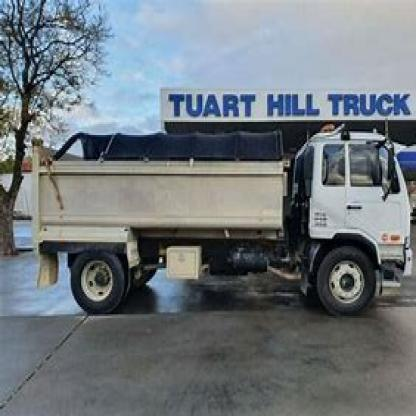dump_truck: (19, 91, 415, 314)
